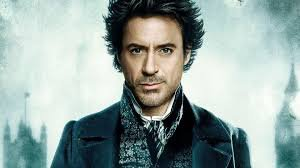noMask: (100, 1, 211, 107)
